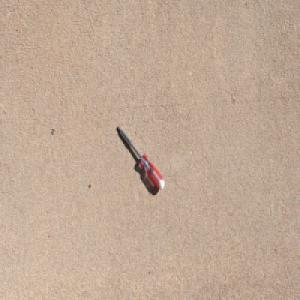Screwdriver: (116, 123, 166, 191)
